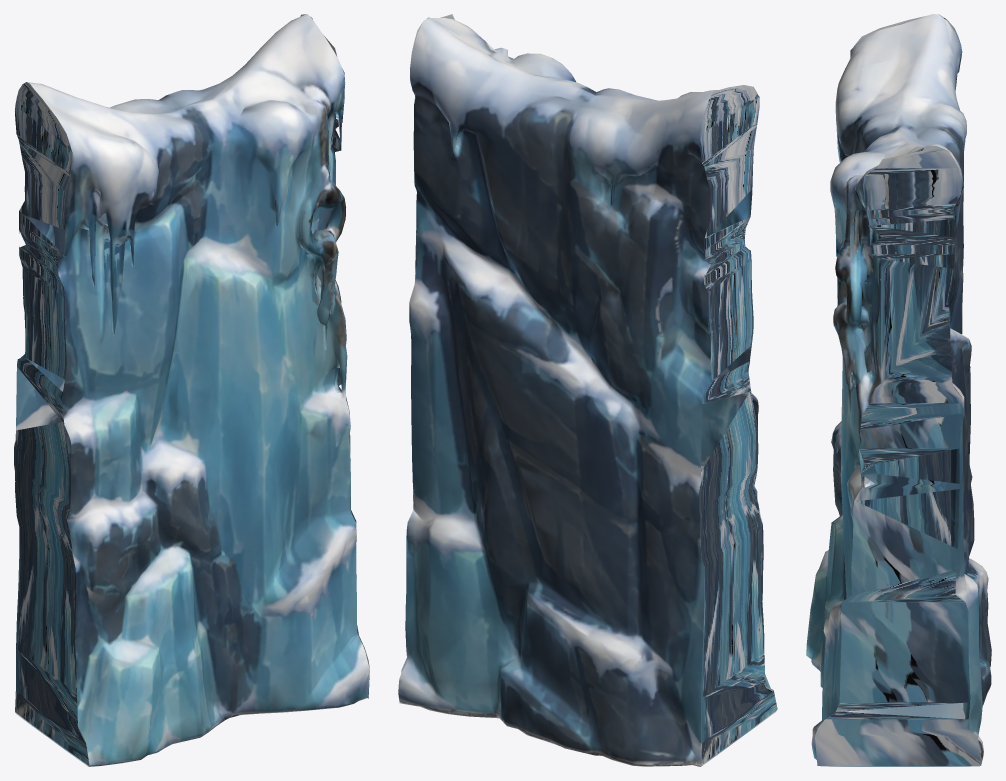
Rendered from SM_Tripo_FrostSeaRampartPanel.glb.
The picture shows the model from 3 angles, left to right: view 1: azimuth 30°, elevation 25°; view 2: azimuth 150°, elevation 25°; view 3: azimuth 270°, elevation 25°; orthographic projection. The views are drawn at different scales.
Visible parts, largest first — view 1: SM_Tripo_FrostSeaRampartPanel_LOD0; view 2: SM_Tripo_FrostSeaRampartPanel_LOD0; view 3: SM_Tripo_FrostSeaRampartPanel_LOD0.
Boxes of the visible parts, left/top/right/bottom form: SM_Tripo_FrostSeaRampartPanel_LOD0: left=14, top=14, right=369, bottom=766; SM_Tripo_FrostSeaRampartPanel_LOD0: left=398, top=14, right=777, bottom=766; SM_Tripo_FrostSeaRampartPanel_LOD0: left=806, top=14, right=991, bottom=766.
Size of the model in its own units: 4 by 8.78 by 2.38.
Materials: 1 (1 with a texture image).
